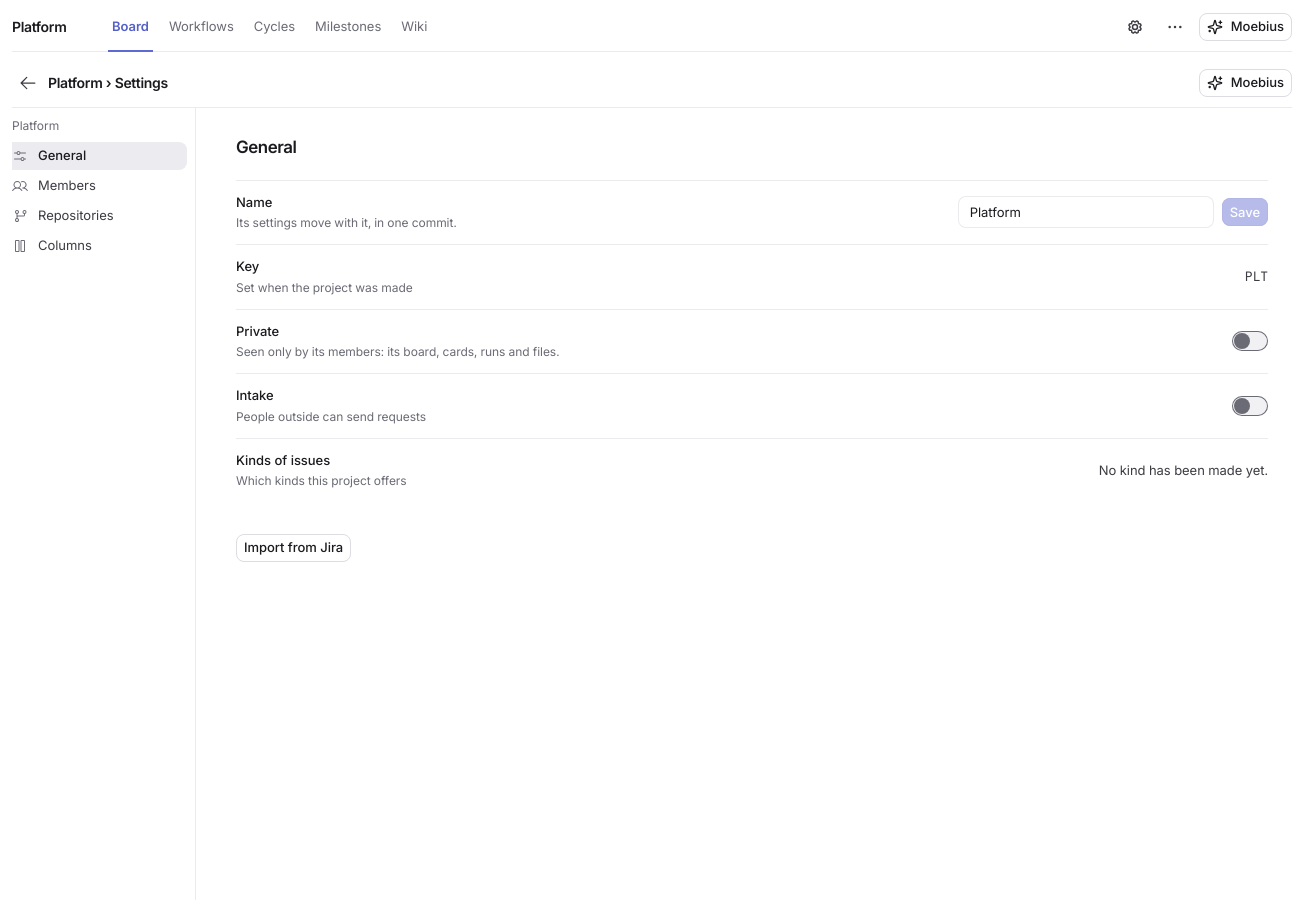
Test: a project's settings › turns intake on with the route, and the header gets its Intake tab at once
Expected: the tab "Board" is shown, [108,8,153,50]
Step 1. Click the switch named "Intake" → (1250, 406), box [1232,392,1268,420]
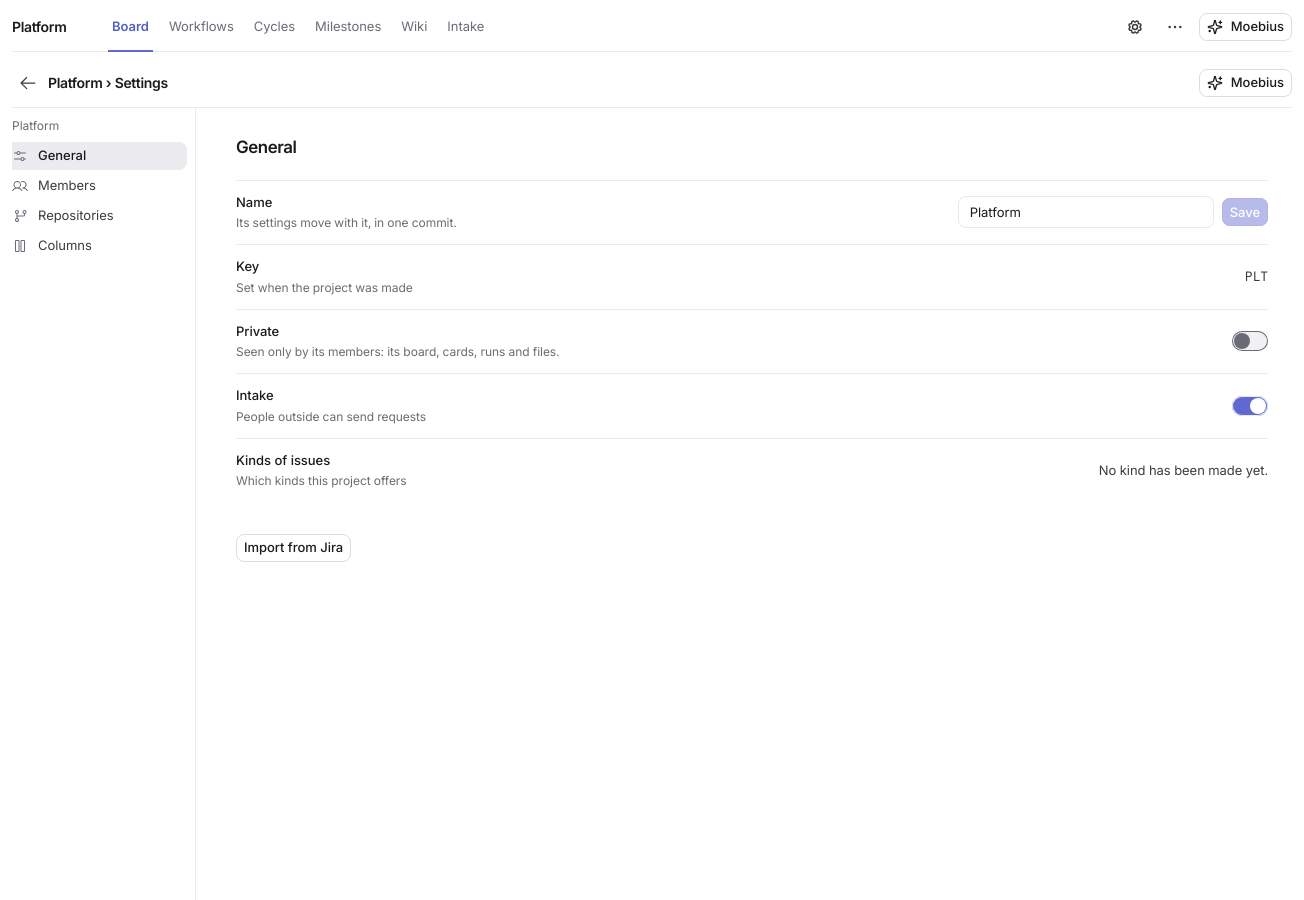
Now the tab "Intake" is shown, box [443,8,488,50]
